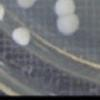white: (54, 14, 81, 37), (10, 27, 32, 47), (53, 0, 78, 15), (15, 0, 40, 9), (0, 2, 6, 22)
